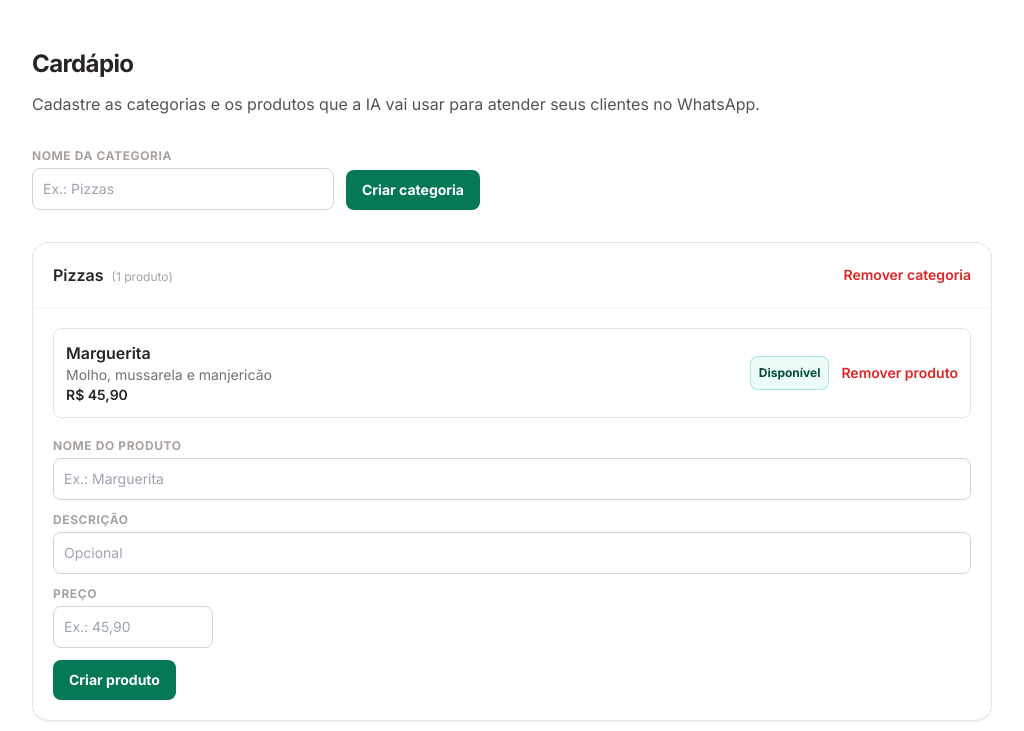
Cardapio › mostra a mensagem do backend quando a criação do produto é recusada
This screenshot has width=1024, height=731.
Check: the button "Pizzas(1 produto)" is shown, box [53,263,173,287]
Step 1. Type "Marguerita" into the field labelled "Nome do produto" → (512, 479), box [53,458,971,500]
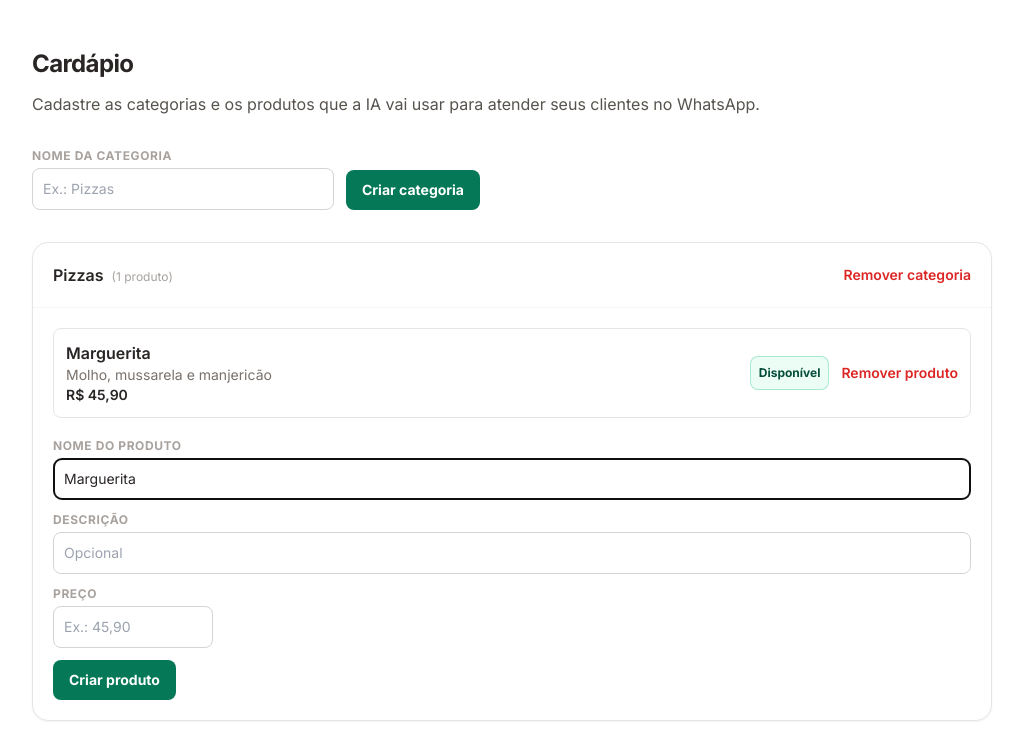
Step 2. Type "45,90" into the field labelled "Preço" → (133, 627), box [53,606,213,648]
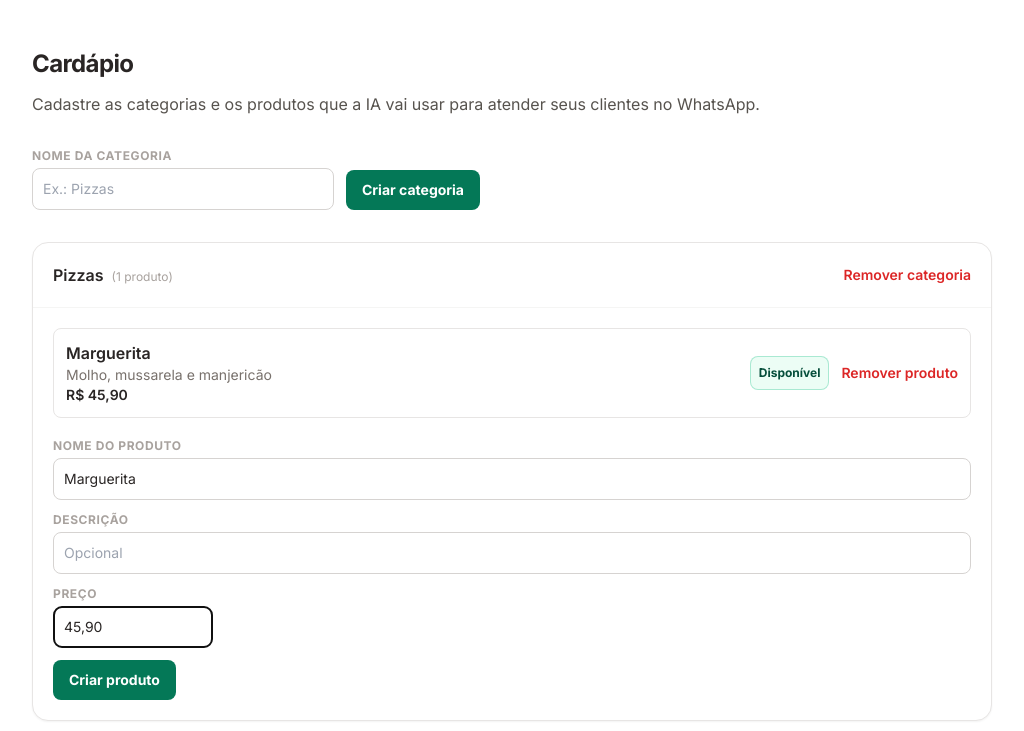
Step 3. Click the button "Criar produto" → (114, 680), box [53,660,176,700]
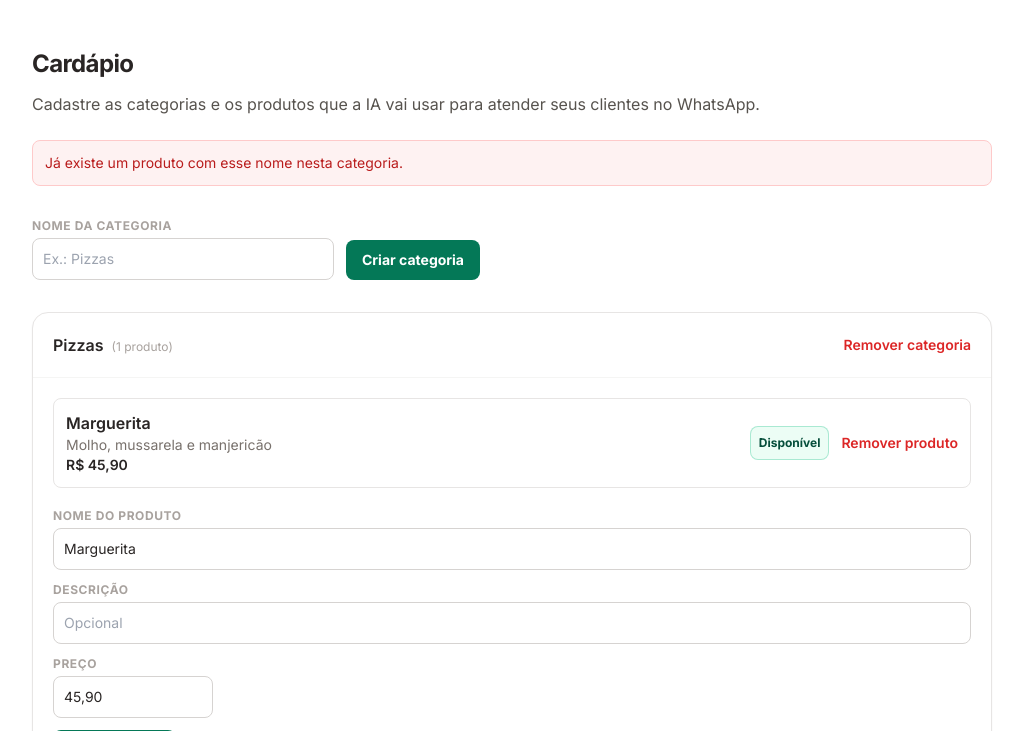
Check: the message reads "Já existe um produto com esse nome nesta categoria.", box [45,154,403,171]
